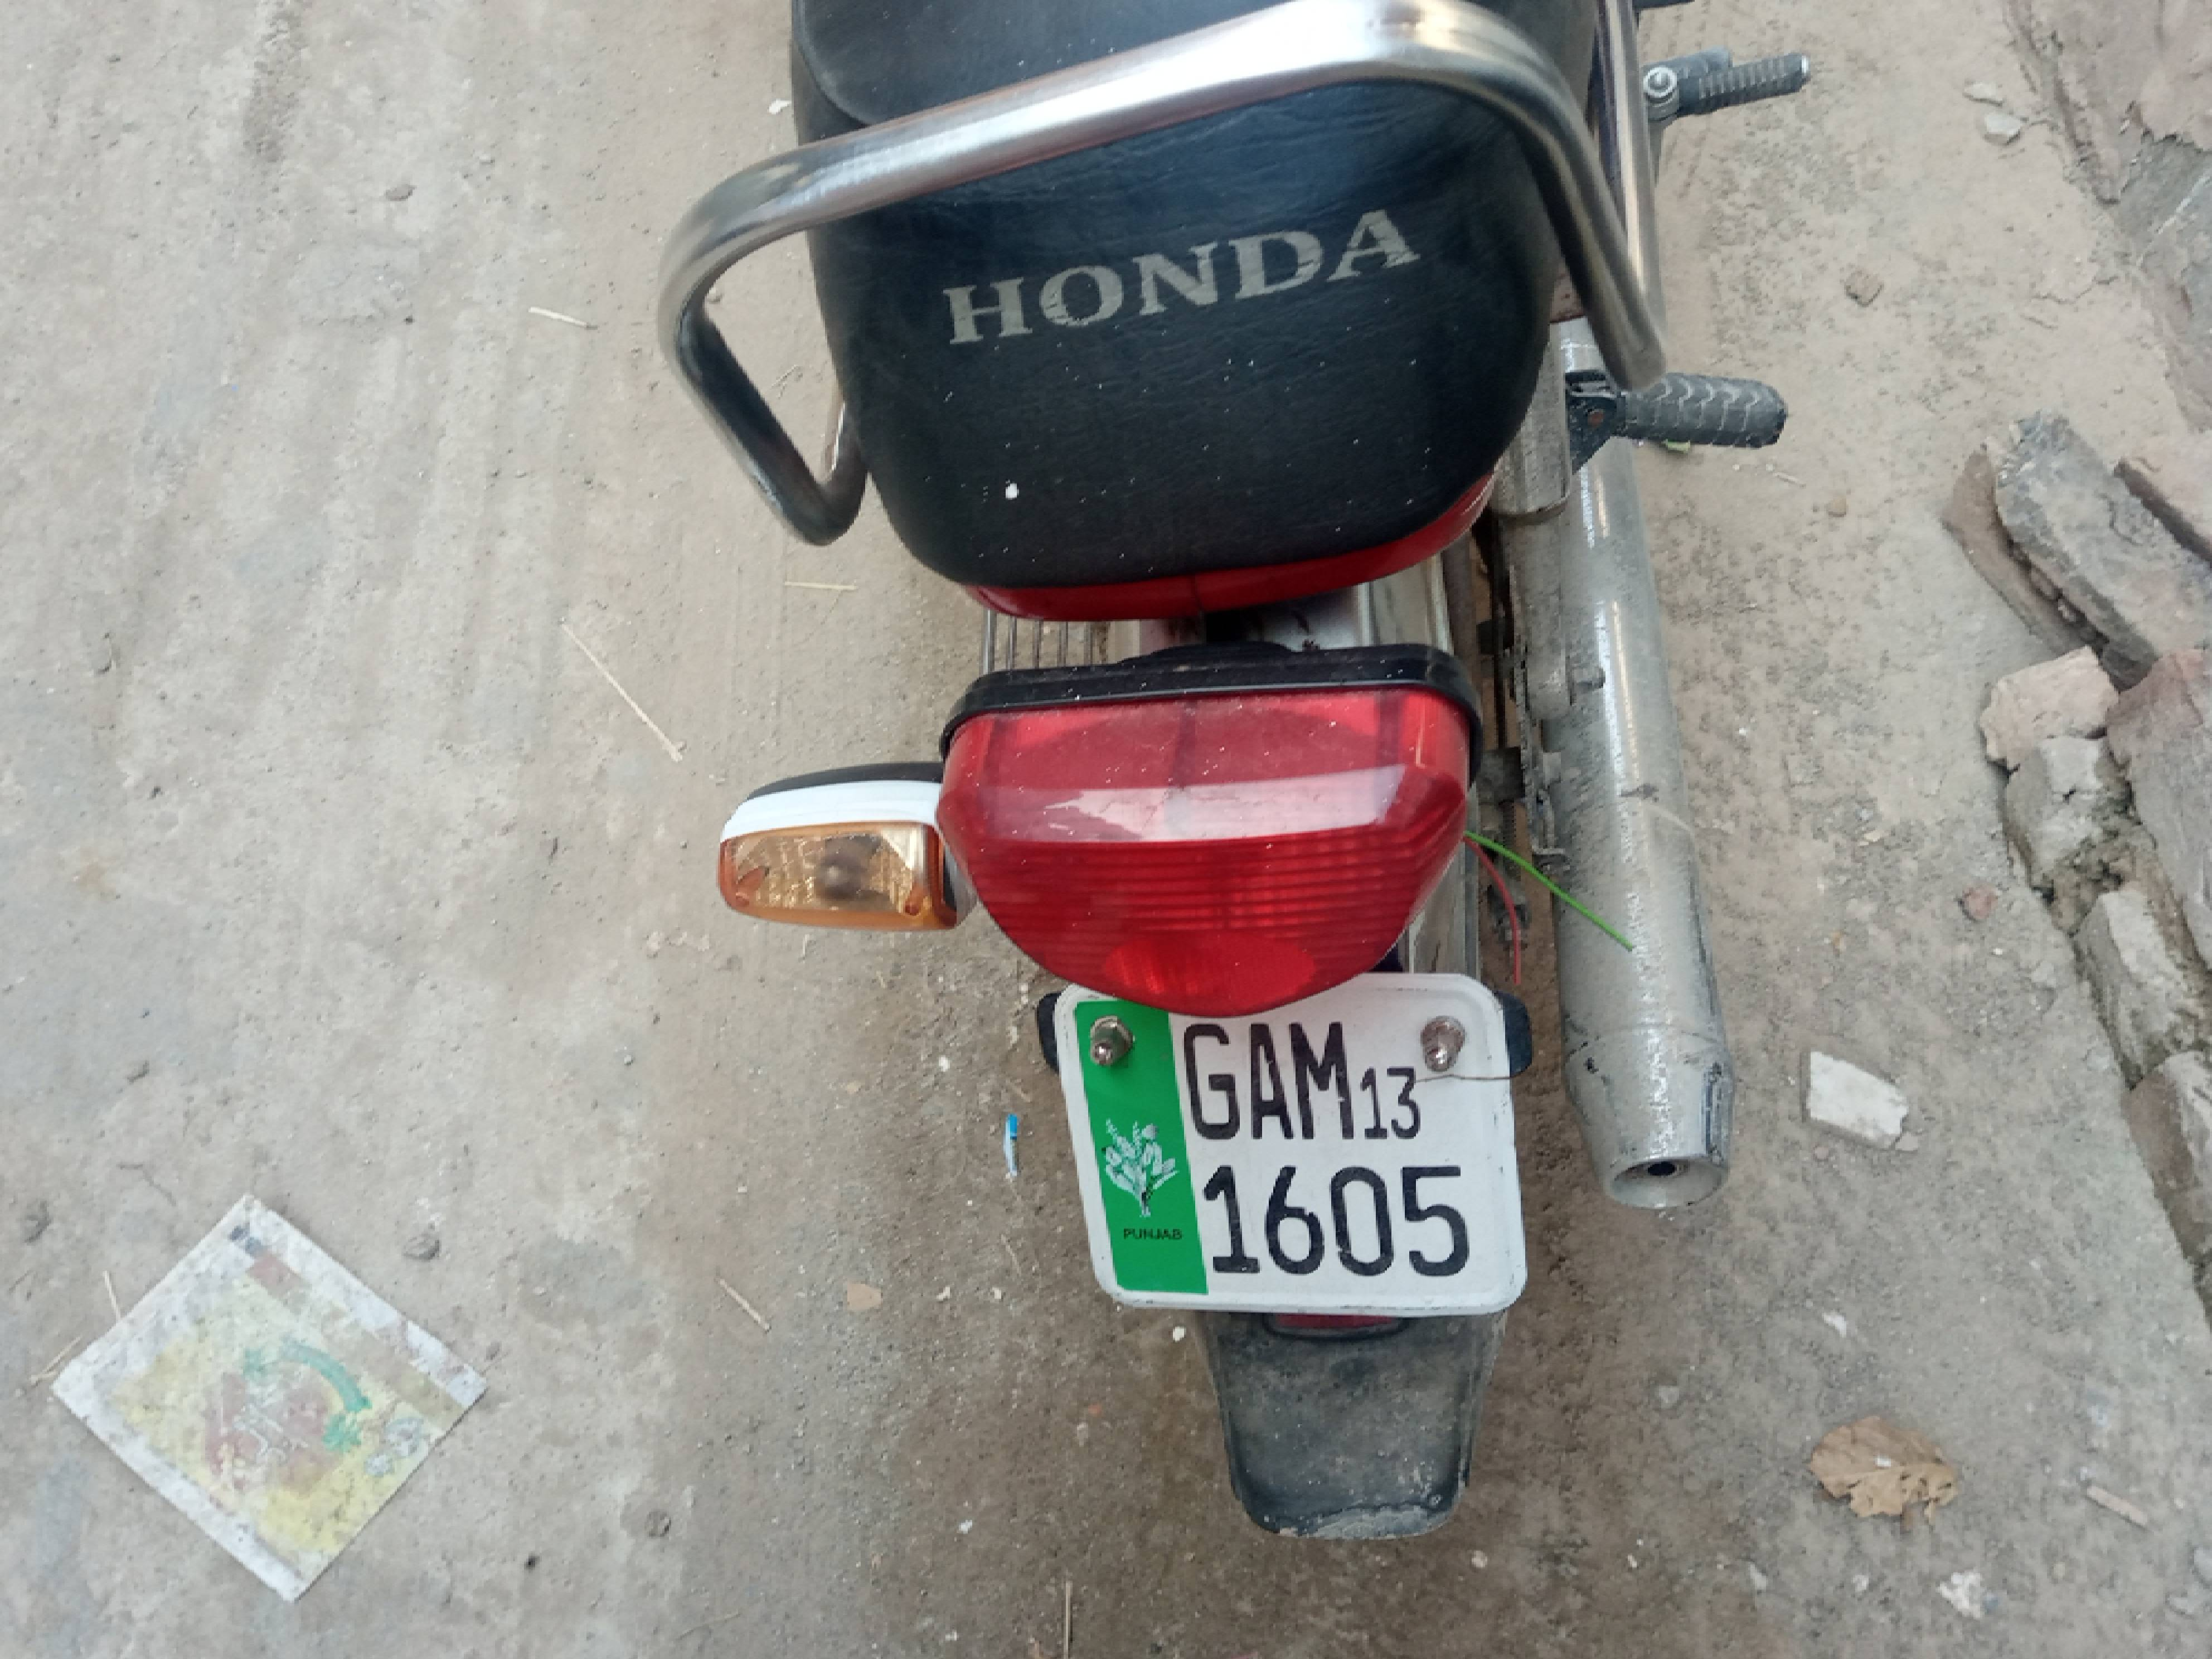number_plate: (1066, 996, 1517, 1308)
